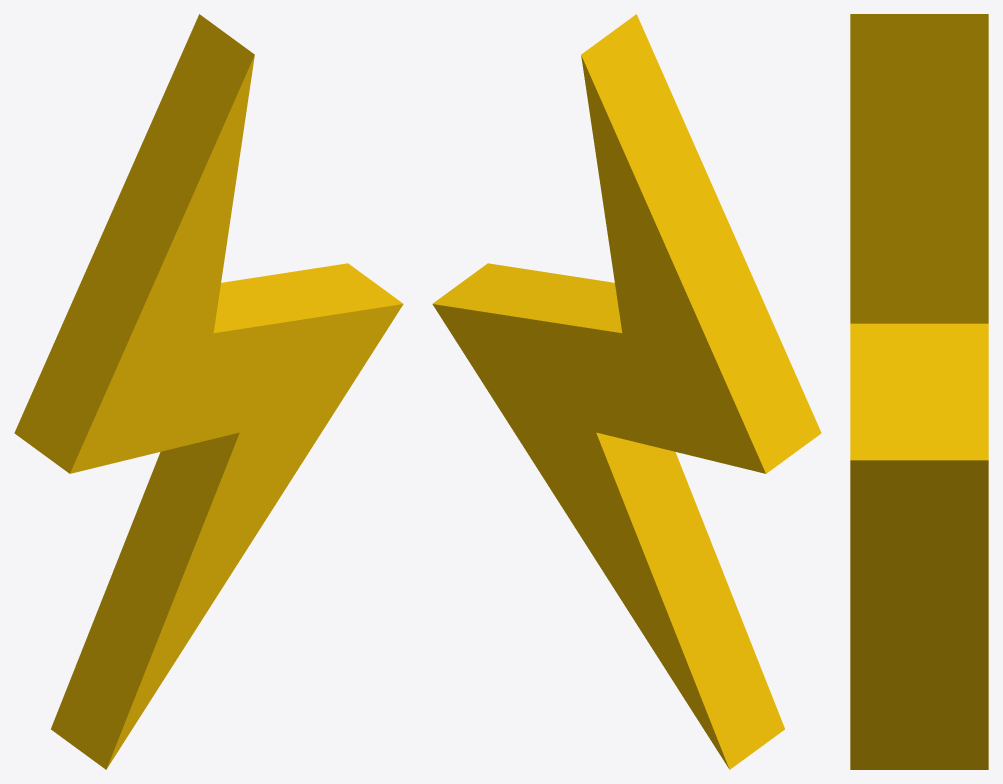
File: item_velocidad.gltf
3 views of the same model, side by side, from view 1: azimuth 30°, elevation 25°; view 2: azimuth 150°, elevation 25°; view 3: azimuth 270°, elevation 25° (orthographic). The views are drawn at different scales.
Parts seen in each view (by area): view 1: light; view 2: light; view 3: light.
Boxes of the visible parts, x1=… form: light: x1=14, y1=14, x2=403, y2=769; light: x1=432, y1=14, x2=821, y2=769; light: x1=850, y1=14, x2=988, y2=769.
Size of the model in its own units: 1.39 by 2.7 by 0.4.
